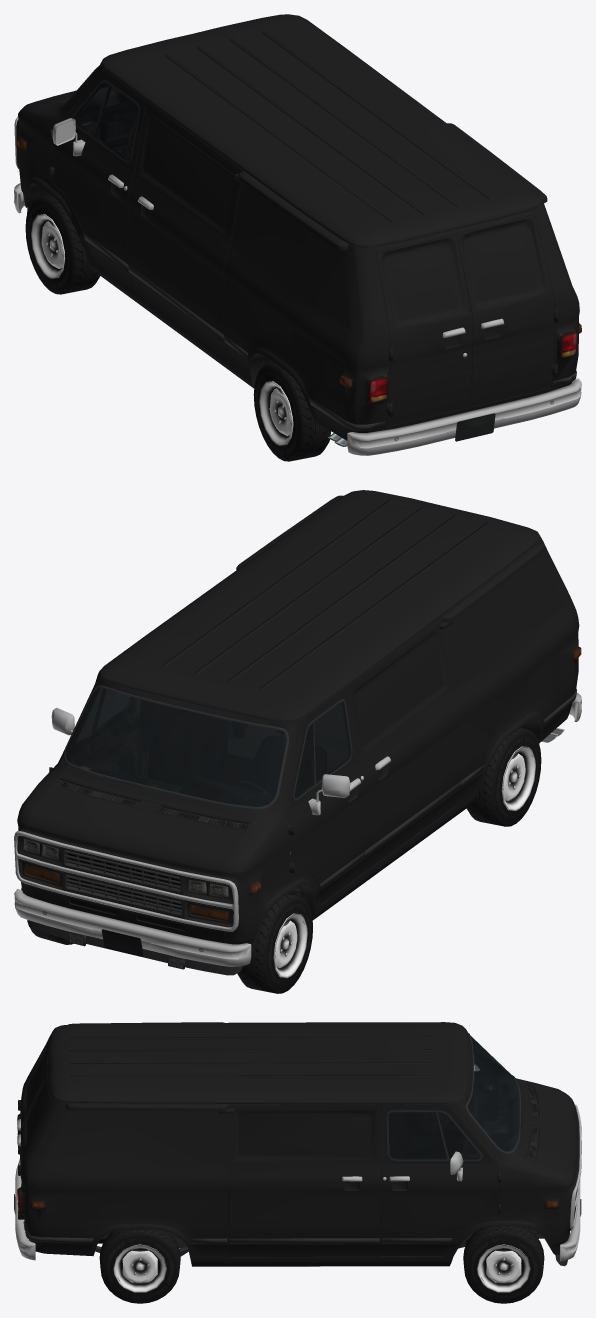
The model's file is car3_van_panel_90s.glb.
3 views of the same model, one above another, from view 1: azimuth 30°, elevation 25°; view 2: azimuth 150°, elevation 25°; view 3: azimuth 270°, elevation 25° (orthographic). The views are drawn at different scales.
Parts seen in each view (by area): view 1: Shvan92_Body_Shvan92_bodymat_0, Shvan92_Bumper_rear_UCB_BOTTOM_0, Shvan92_Bottom_UCB_BOTTOM_0, Shvan92_WheelStock_RL_RB1c_Tire_1k_0, Shvan92_WheelStock_FL_RB1c_Tire_1k_0, Shvan92_Interior_UCB_Interiors_1_0, Shvan92_Glass_Driver_UCB_Lights_and_Glass_Transperent_0, Shvan92_Body_glass_UCB_Lights_and_Glass_Transperent_0; view 2: Shvan92_Body_Shvan92_bodymat_0, Shvan92_Bottom_UCB_BOTTOM_0, Shvan92_Interior_UCB_Interiors_1_0, Shvan92_Windshield_UCB_Lights_and_Glass_Transperent_0, Shvan92_Hood_Shvan92_bodymat_0, Shvan92_Bumper_front_UCB_BOTTOM_0, Shvan92_WheelStock_FL_RB1c_Tire_1k_0, Shvan92_WheelStock_RL_RB1c_Tire_1k_0, Shvan92_Glass_Driver_UCB_Lights_and_Glass_Transperent_0, Shvan92_Headlights_Glass_UCB_Lights_and_Glass_Transperent_0, Shvan92_Body_glass_UCB_Lights_and_Glass_Transperent_0, Shvan92_Blinkers_UCB_Lights_and_Glass_0 (+1 smaller); view 3: Shvan92_Body_Shvan92_bodymat_0, Shvan92_Interior_UCB_Interiors_1_0, Shvan92_Bottom_UCB_BOTTOM_0, Shvan92_WheelStock_FR_RB1c_Tire_1k_0, Shvan92_WheelStock_RL_RB1c_Tire_1k_0, Shvan92_Windshield_UCB_Lights_and_Glass_Transperent_0, Shvan92_Hood_Shvan92_bodymat_0, Shvan92_Glass_Passanger_UCB_Lights_and_Glass_Transperent_0, Shvan92_Body_glass_UCB_Lights_and_Glass_Transperent_0, Shvan92_Bumper_rear_UCB_BOTTOM_0, Shvan92_Bumper_front_UCB_BOTTOM_0.
Boxes of the visible parts, x1,y1,x2,y2 form: Shvan92_Body_Shvan92_bodymat_0: (16, 14, 579, 440); Shvan92_Bumper_rear_UCB_BOTTOM_0: (347, 378, 581, 455); Shvan92_Bottom_UCB_BOTTOM_0: (14, 67, 581, 446); Shvan92_WheelStock_RL_RB1c_Tire_1k_0: (253, 362, 330, 461); Shvan92_WheelStock_FL_RB1c_Tire_1k_0: (25, 194, 100, 294); Shvan92_Interior_UCB_Interiors_1_0: (68, 82, 554, 389); Shvan92_Glass_Driver_UCB_Lights_and_Glass_Transperent_0: (94, 85, 138, 160); Shvan92_Body_glass_UCB_Lights_and_Glass_Transperent_0: (73, 82, 108, 135); Shvan92_Body_Shvan92_bodymat_0: (17, 490, 579, 947); Shvan92_Bottom_UCB_BOTTOM_0: (14, 646, 581, 975); Shvan92_Interior_UCB_Interiors_1_0: (66, 688, 364, 854); Shvan92_Windshield_UCB_Lights_and_Glass_Transperent_0: (65, 688, 286, 806); Shvan92_Hood_Shvan92_bodymat_0: (27, 785, 245, 878); Shvan92_Bumper_front_UCB_BOTTOM_0: (14, 889, 251, 966); Shvan92_WheelStock_FL_RB1c_Tire_1k_0: (237, 893, 312, 993); Shvan92_WheelStock_RL_RB1c_Tire_1k_0: (466, 728, 541, 826); Shvan92_Glass_Driver_UCB_Lights_and_Glass_Transperent_0: (314, 702, 351, 783); Shvan92_Headlights_Glass_UCB_Lights_and_Glass_Transperent_0: (23, 839, 228, 921); Shvan92_Body_glass_UCB_Lights_and_Glass_Transperent_0: (76, 689, 314, 798); Shvan92_Blinkers_UCB_Lights_and_Glass_0: (26, 864, 228, 920); Shvan92_Body_Shvan92_bodymat_0: (18, 1022, 575, 1266); Shvan92_Interior_UCB_Interiors_1_0: (32, 1039, 521, 1208); Shvan92_Bottom_UCB_BOTTOM_0: (17, 1033, 581, 1266); Shvan92_WheelStock_FR_RB1c_Tire_1k_0: (463, 1226, 544, 1303); Shvan92_WheelStock_RL_RB1c_Tire_1k_0: (99, 1229, 180, 1303); Shvan92_Windshield_UCB_Lights_and_Glass_Transperent_0: (467, 1035, 519, 1151); Shvan92_Hood_Shvan92_bodymat_0: (534, 1085, 579, 1184); Shvan92_Glass_Passanger_UCB_Lights_and_Glass_Transperent_0: (388, 1112, 446, 1159); Shvan92_Body_glass_UCB_Lights_and_Glass_Transperent_0: (437, 1112, 480, 1159); Shvan92_Bumper_rear_UCB_BOTTOM_0: (14, 1159, 35, 1260); Shvan92_Bumper_front_UCB_BOTTOM_0: (560, 1179, 581, 1261).
Size of the model in its own units: 2.4 by 1.97 by 5.
Materials: 6 (5 with a texture image).
